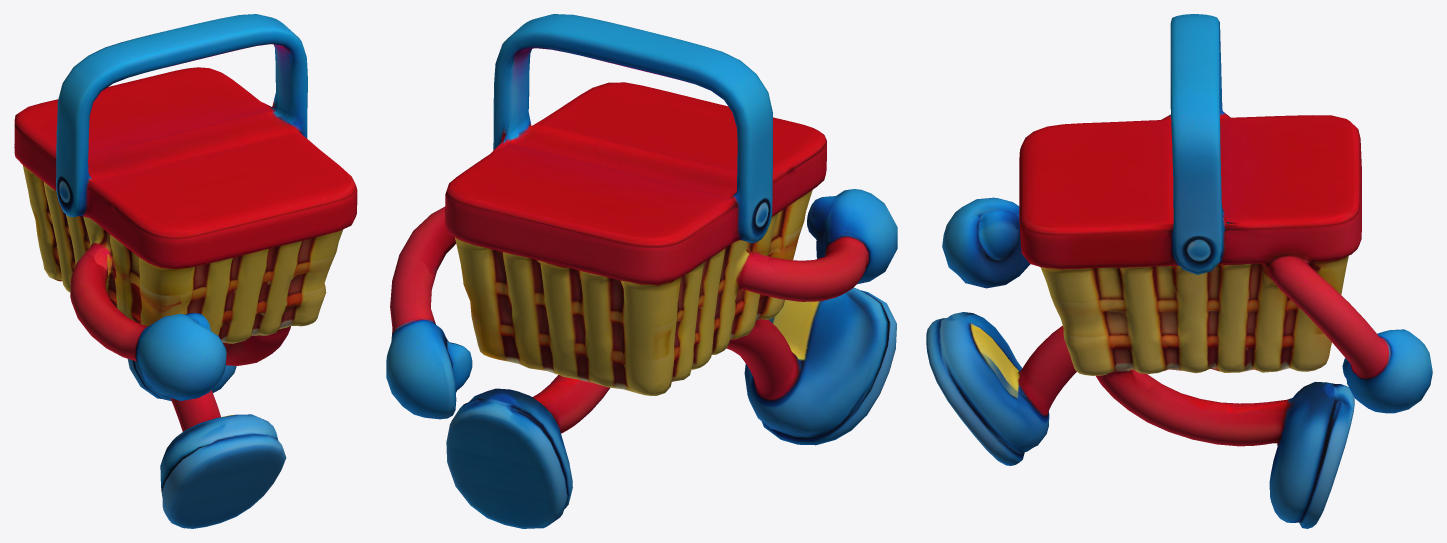
File: picnic_02.glb
3 renders of one model, left to right at view 1: azimuth 30°, elevation 25°; view 2: azimuth 150°, elevation 25°; view 3: azimuth 270°, elevation 25°, orthographic. The views are drawn at different scales.
Visible parts, largest first — view 1: tripo_node_a4b5a4ae-a664-45c0-b3ed-c710c05fb0be; view 2: tripo_node_a4b5a4ae-a664-45c0-b3ed-c710c05fb0be; view 3: tripo_node_a4b5a4ae-a664-45c0-b3ed-c710c05fb0be.
Part boxes in pixels (x1=…): tripo_node_a4b5a4ae-a664-45c0-b3ed-c710c05fb0be: x1=14, y1=14, x2=357, y2=528; tripo_node_a4b5a4ae-a664-45c0-b3ed-c710c05fb0be: x1=386, y1=14, x2=897, y2=528; tripo_node_a4b5a4ae-a664-45c0-b3ed-c710c05fb0be: x1=926, y1=14, x2=1432, y2=528.
Bounding box in the file's own units: 0.6597 × 0.9078 × 0.9486.
Materials: 1 (1 with a texture image).
